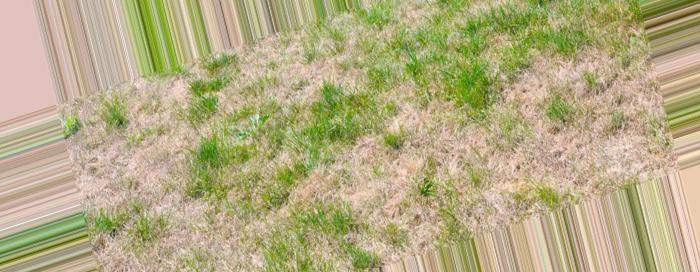patch: (383, 95, 597, 185), (76, 94, 210, 191), (318, 155, 445, 241), (528, 63, 634, 166), (153, 189, 264, 258), (249, 43, 343, 99)
